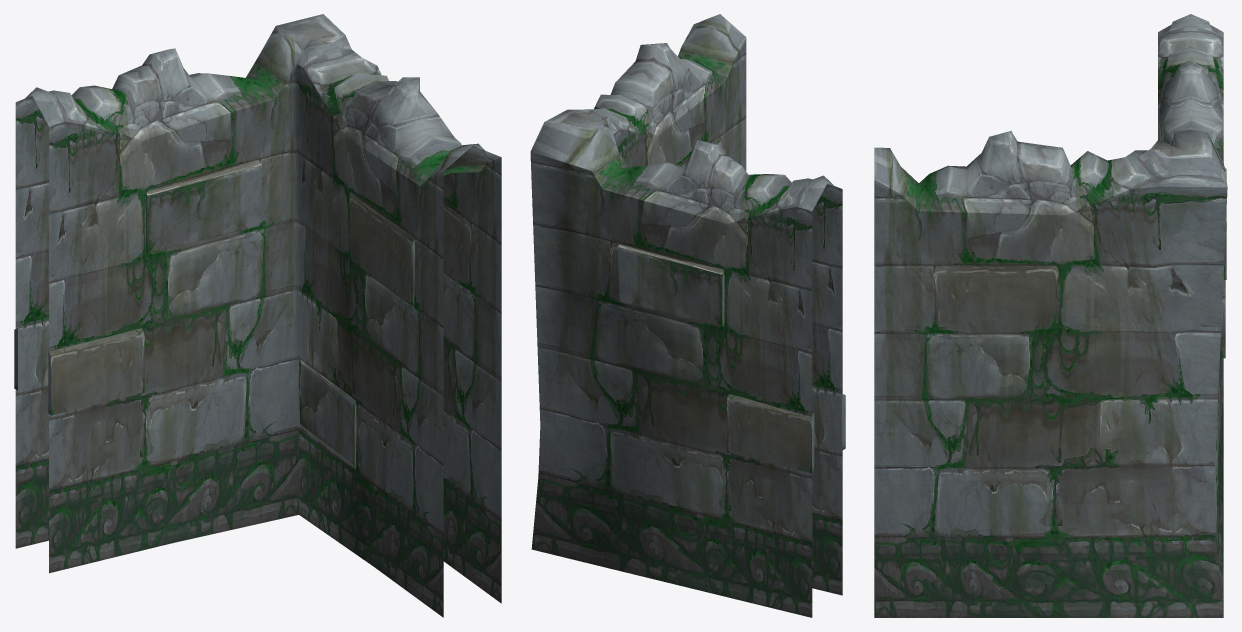
File: stemple_wall_concave_01.fbx
3 renders of one model, left to right at view 1: azimuth 30°, elevation 25°; view 2: azimuth 150°, elevation 25°; view 3: azimuth 270°, elevation 25°, orthographic. The views are drawn at different scales.
Parts seen in each view (by area): view 1: sunken_tileset/sunken_wall_straight01_mat; view 2: sunken_tileset/sunken_wall_straight01_mat; view 3: sunken_tileset/sunken_wall_straight01_mat.
Boxes of the visible parts, left/top/right/bottom form: sunken_tileset/sunken_wall_straight01_mat: left=14, top=14, right=501, bottom=617; sunken_tileset/sunken_wall_straight01_mat: left=530, top=14, right=845, bottom=617; sunken_tileset/sunken_wall_straight01_mat: left=874, top=14, right=1227, bottom=617.
Size of the model in its own units: 4.52 by 6.61 by 4.47.
